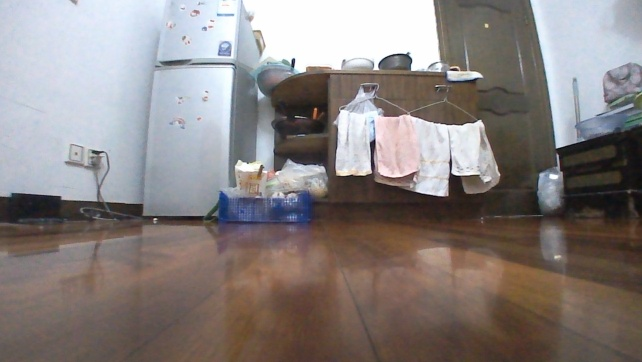door_anno: (435, 0, 562, 220)
refrigerator: (140, 0, 264, 224)
wire: (79, 147, 134, 223)
